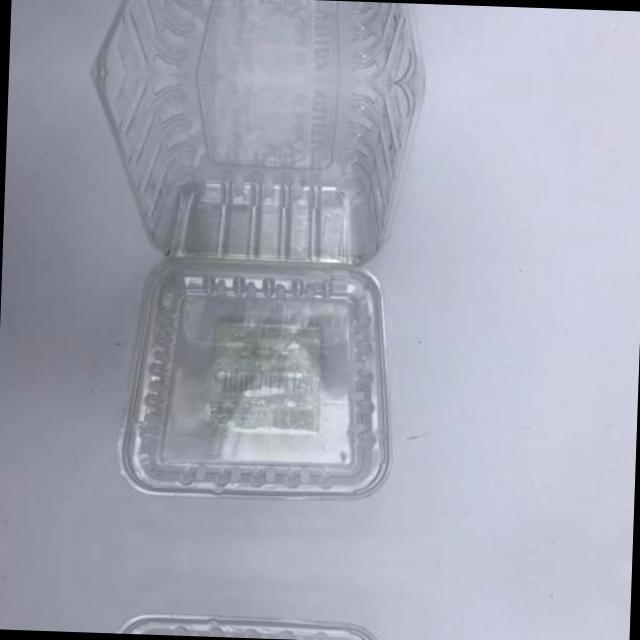Plastic: (84, 70, 426, 510), (99, 0, 428, 82), (80, 603, 407, 640)
